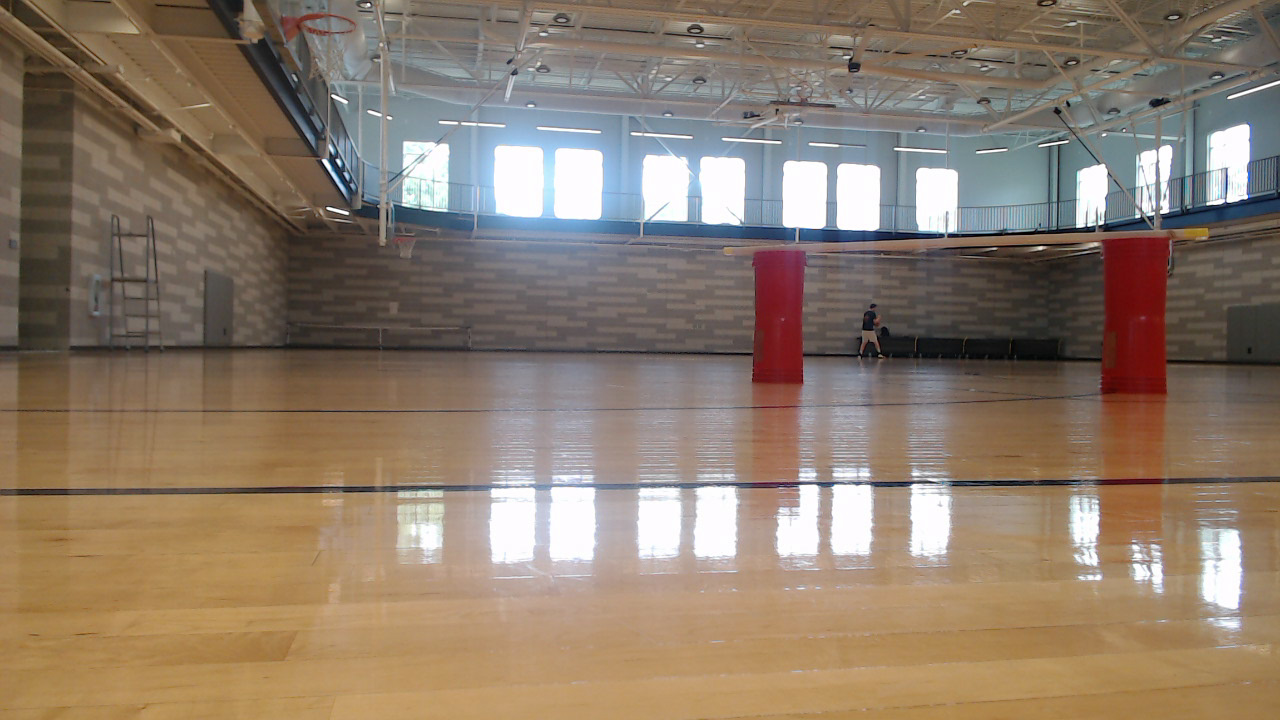red_bucket_arch: (751, 230, 1180, 406)
